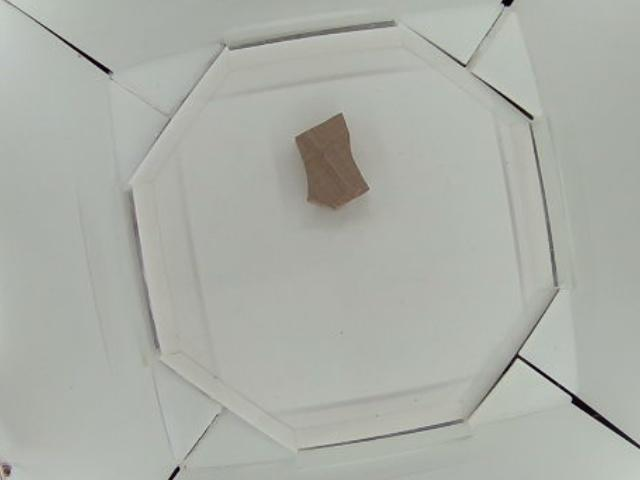China: (295, 112, 371, 209)
